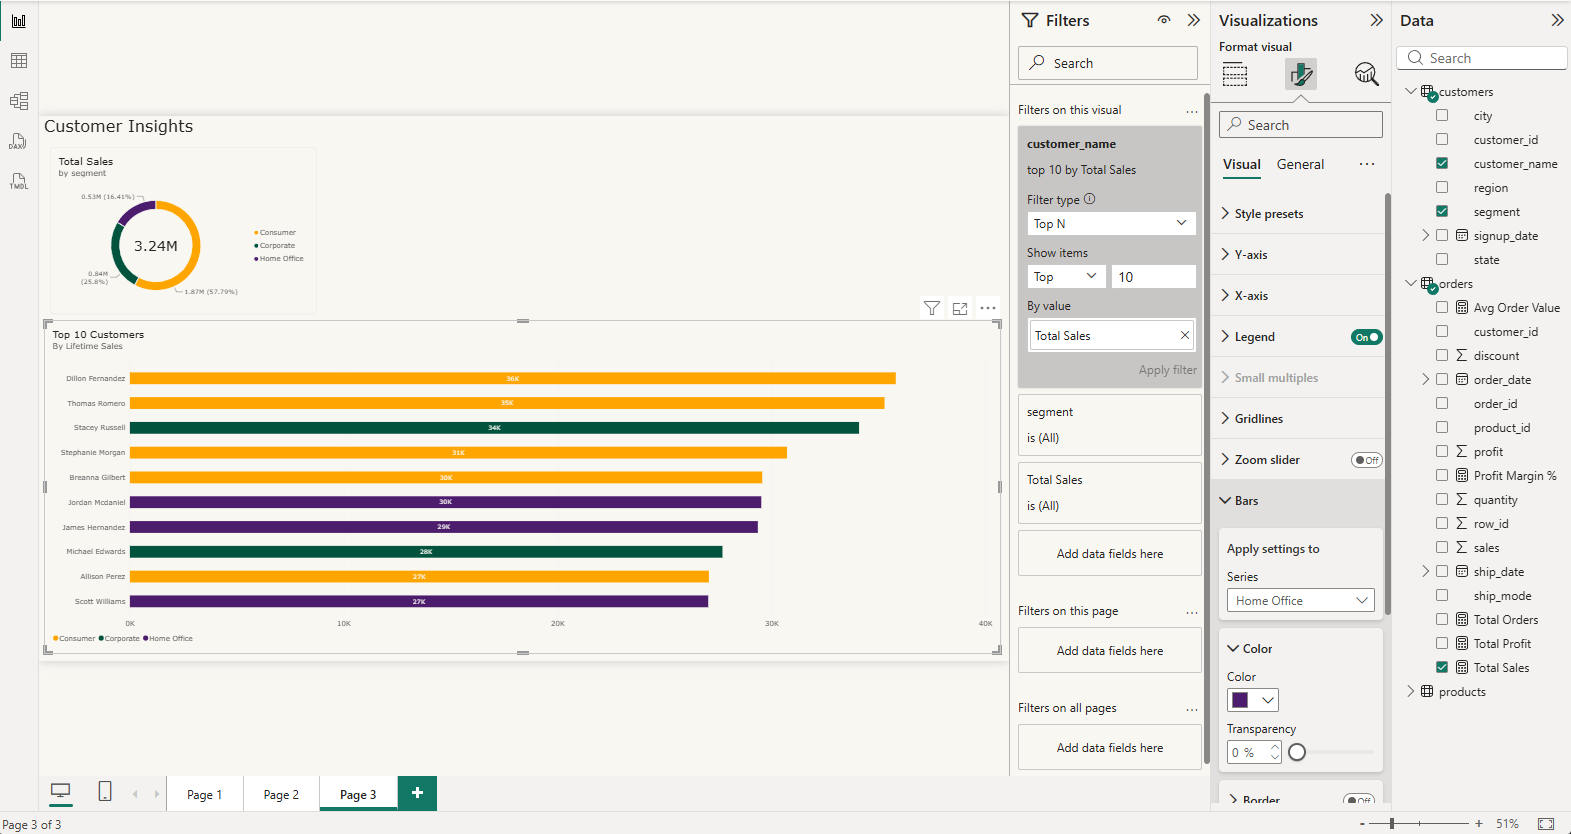

This screenshot's page, from the dashboard's own definition file:
{"tool":"powerbi","page":{"name":"Page 3","canvas":[1920,1080],"ordinal":2},"visuals":[{"type":"textbox","box":[21.9,0,302,42.2],"z":0},{"type":"donutChart","fields":{"Y":["orders.Total Sales"],"Category":["customers.segment"]},"box":[543.3,21.9,604,396.5],"z":1000},{"type":"barChart","title":"Top 10 Customers","fields":{"Category":["customers.customer_name"],"Y":["orders.Total Sales"],"Series":["customers.segment"]},"box":[1165.8,21.9,733.9,396.5],"z":2000},{"type":"columnChart","title":"New vs Returning Customers by Month","fields":{"Series":["orders.Customer Status"],"Y":["orders.Total Sales"],"Category":["orders.order_date.Variation.Date Hierarchy.Year","orders.order_date.Variation.Date Hierarchy.Month"]},"box":[21.9,433.6,1877.8,632.7],"z":3000},{"type":"slicer","fields":{"Values":["orders.order_date"]},"box":[21.9,57.4,492.7,163.7],"z":4000},{"type":"slicer","fields":{"Values":["customers.segment"]},"box":[21.9,249.7,492.7,168.7],"z":5000}]}

Visuals, with their boxes on the page's 1920x1080 design canvas (x1, y1, x2, y2). These are canvas units, not pixel positions in the 1571x834 screenshot, which may show the page scaled, cropped or inside an application window:
textbox: (left=22, top=0, right=324, bottom=42)
donutChart - orders.Total Sales x customers.segment: (left=543, top=22, right=1147, bottom=418)
"Top 10 Customers" barChart: (left=1166, top=22, right=1900, bottom=418)
"New vs Returning Customers by Month" columnChart: (left=22, top=434, right=1900, bottom=1066)
slicer - orders.order_date: (left=22, top=57, right=515, bottom=221)
slicer - customers.segment: (left=22, top=250, right=515, bottom=418)
